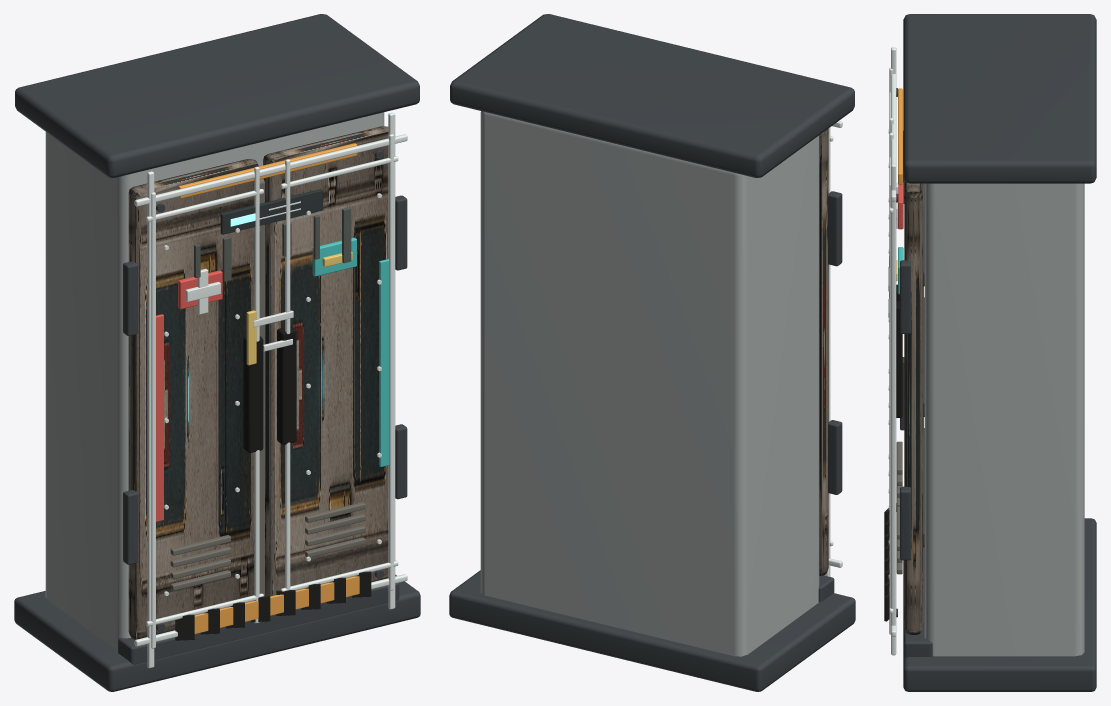
Rendered from hp_room_maintenance_supply_cabinet.glb.
3 views of the same model, side by side, from view 1: azimuth 30°, elevation 25°; view 2: azimuth 150°, elevation 25°; view 3: azimuth 270°, elevation 25° (orthographic).
Visible parts, largest first — view 1: room_maintenance_supply_cabinet_body_shell, room_maintenance_supply_cabinet_right_door, room_maintenance_supply_cabinet_left_door, room_maintenance_supply_cabinet_top_heavy_cap, room_maintenance_supply_cabinet_bottom_heavy_plinth, room_maintenance_supply_cabinet_right_door_image2_frame_trim (×4), room_maintenance_supply_cabinet_left_door_image2_frame_trim_ (×4), room_maintenance_supply_cabinet_toe_kick_dark, room_maintenance_supply_cabinet_door_outline_trim_left, room_maintenance_supply_cabinet_right_energy_status_slit, room_maintenance_supply_cabinet_right_handle, room_maintenance_supply_cabinet_left_handle (+13 smaller); view 2: room_maintenance_supply_cabinet_body_shell, room_maintenance_supply_cabinet_top_heavy_cap, room_maintenance_supply_cabinet_bottom_heavy_plinth, room_maintenance_supply_cabinet_left_door, room_maintenance_supply_cabinet_side_hinge_top_l, room_maintenance_supply_cabinet_side_hinge_bottom_l, room_maintenance_supply_cabinet_door_outline_trim_left; view 3: room_maintenance_supply_cabinet_body_shell, room_maintenance_supply_cabinet_top_heavy_cap, room_maintenance_supply_cabinet_bottom_heavy_plinth, room_maintenance_supply_cabinet_right_door, room_maintenance_supply_cabinet_door_outline_trim_right, room_maintenance_supply_cabinet_right_door_image2_frame_trim, room_maintenance_supply_cabinet_side_hinge_bottom_r, room_maintenance_supply_cabinet_side_hinge_top_r, room_maintenance_supply_cabinet_toe_kick_dark, room_maintenance_supply_cabinet_right_handle, room_maintenance_supply_cabinet_door_outline_trim_top, room_maintenance_supply_cabinet_warning_strip_top (+1 smaller).
Boxes of the visible parts, x1,y1,x2,y2 form: room_maintenance_supply_cabinet_body_shell: (45,112,384,650); room_maintenance_supply_cabinet_right_door: (263,126,388,596); room_maintenance_supply_cabinet_left_door: (128,159,258,639); room_maintenance_supply_cabinet_top_heavy_cap: (15,14,419,177); room_maintenance_supply_cabinet_bottom_heavy_plinth: (14,574,420,691); room_maintenance_supply_cabinet_right_door_image2_frame_trim (×4): (280,134,398,615); room_maintenance_supply_cabinet_left_door_image2_frame_trim_ (×4): (146,166,263,648); room_maintenance_supply_cabinet_toe_kick_dark: (118,583,399,664); room_maintenance_supply_cabinet_door_outline_trim_left: (147,171,154,668); room_maintenance_supply_cabinet_right_energy_status_slit: (379,259,389,466); room_maintenance_supply_cabinet_right_handle: (277,326,296,444); room_maintenance_supply_cabinet_left_handle: (243,336,263,452); room_maintenance_supply_cabinet_body_shell: (480,111,819,656); room_maintenance_supply_cabinet_top_heavy_cap: (450,14,854,177); room_maintenance_supply_cabinet_bottom_heavy_plinth: (449,570,855,691); room_maintenance_supply_cabinet_left_door: (819,128,828,575); room_maintenance_supply_cabinet_side_hinge_top_l: (828,191,842,266); room_maintenance_supply_cabinet_side_hinge_bottom_l: (828,420,842,494); room_maintenance_supply_cabinet_door_outline_trim_left: (824,127,830,576); room_maintenance_supply_cabinet_body_shell: (924,183,1084,656); room_maintenance_supply_cabinet_top_heavy_cap: (903,14,1096,183); room_maintenance_supply_cabinet_bottom_heavy_plinth: (903,518,1096,691); room_maintenance_supply_cabinet_right_door: (904,180,922,634); room_maintenance_supply_cabinet_door_outline_trim_right: (891,163,896,655); room_maintenance_supply_cabinet_right_door_image2_frame_trim: (889,183,890,634); room_maintenance_supply_cabinet_side_hinge_bottom_r: (900,486,910,560); room_maintenance_supply_cabinet_side_hinge_top_r: (900,260,910,333); room_maintenance_supply_cabinet_toe_kick_dark: (904,547,932,658); room_maintenance_supply_cabinet_right_handle: (896,301,902,417); room_maintenance_supply_cabinet_door_outline_trim_top: (891,74,896,201); room_maintenance_supply_cabinet_warning_strip_top: (898,88,902,184).
Size of the model in its own units: 1.12 by 1.83 by 0.6623.
15 materials, 1 textured.
